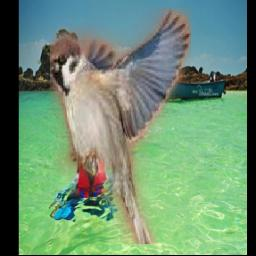Sparrow: (50, 9, 191, 245)
